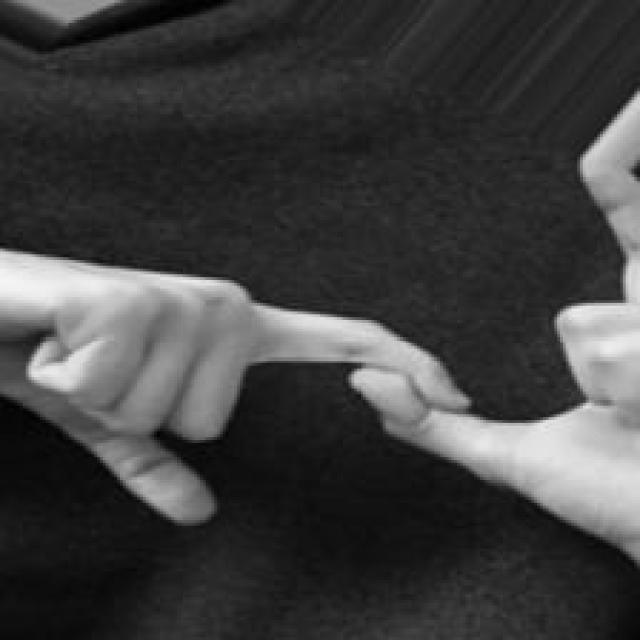S: (0, 167, 640, 552)
